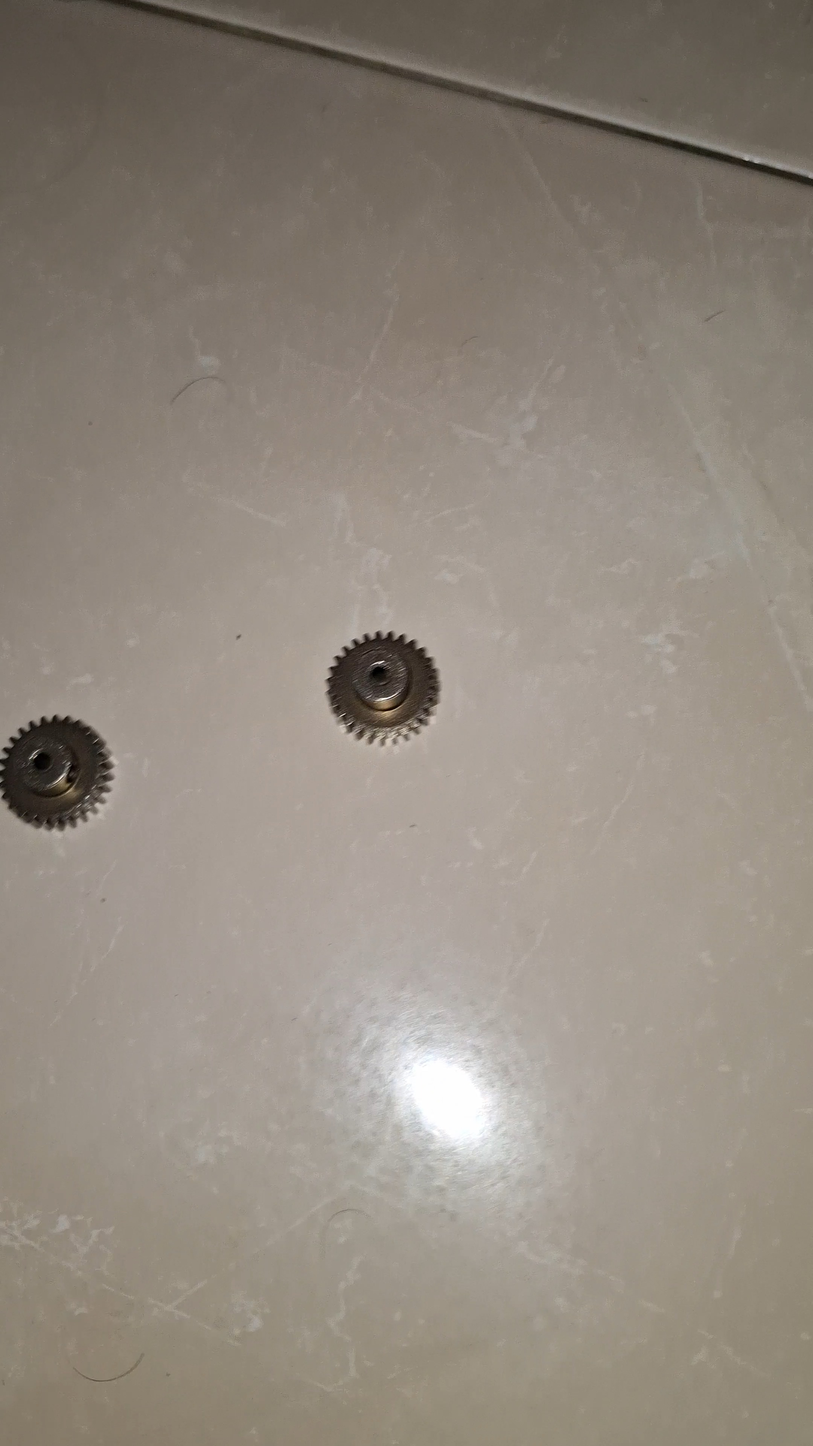spur gear: (0, 717, 113, 828), (327, 633, 439, 743)
